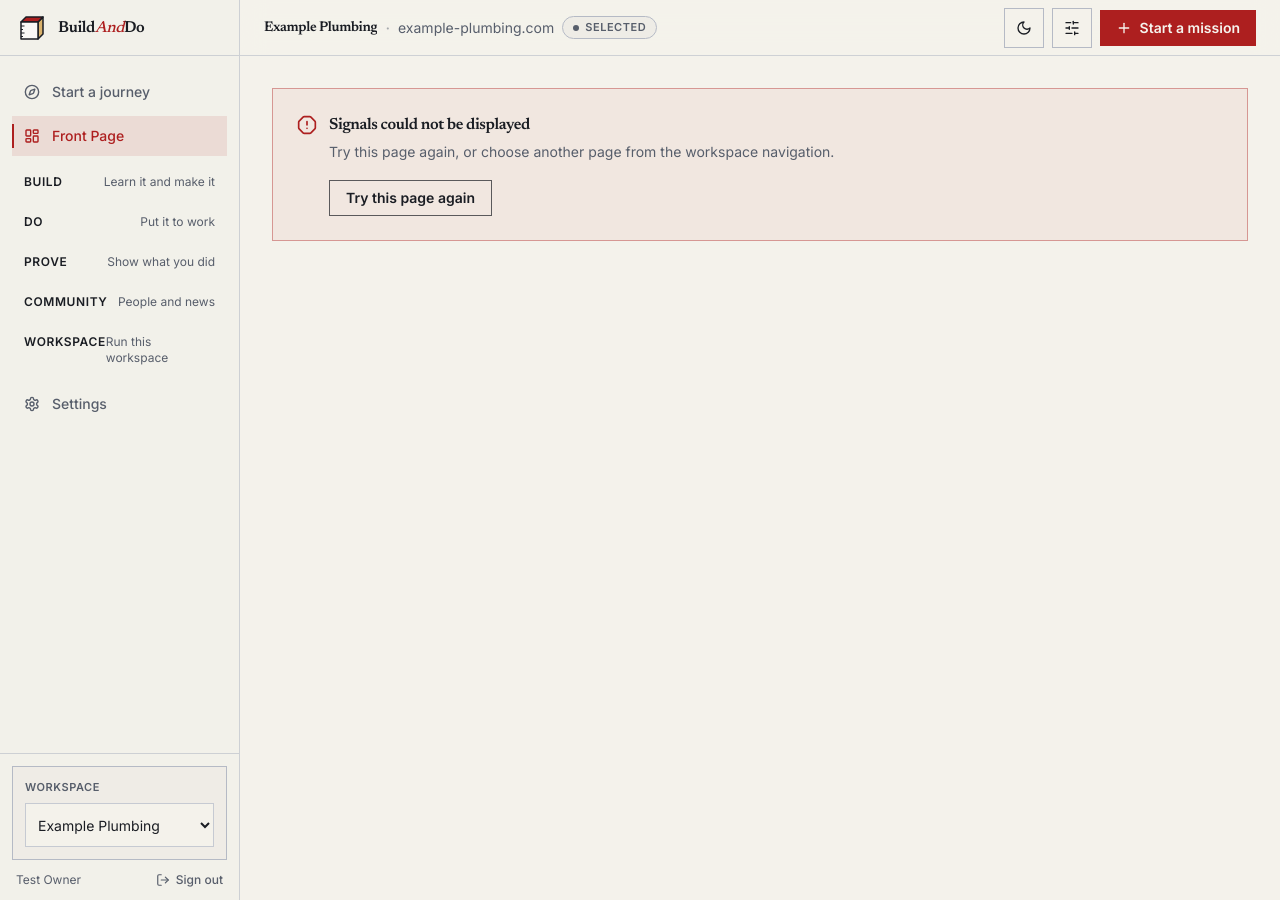
Test: page error isolation › attributes a failed page, keeps the shell available and recovers on retry
Expected: the message shows "Signals could not be displayed", [329,117,530,133]
Expected: the link "Settings" is shown, [24,395,107,412]
Click the button "Try this page again". click: [410, 198]
box: [329,180,492,216]
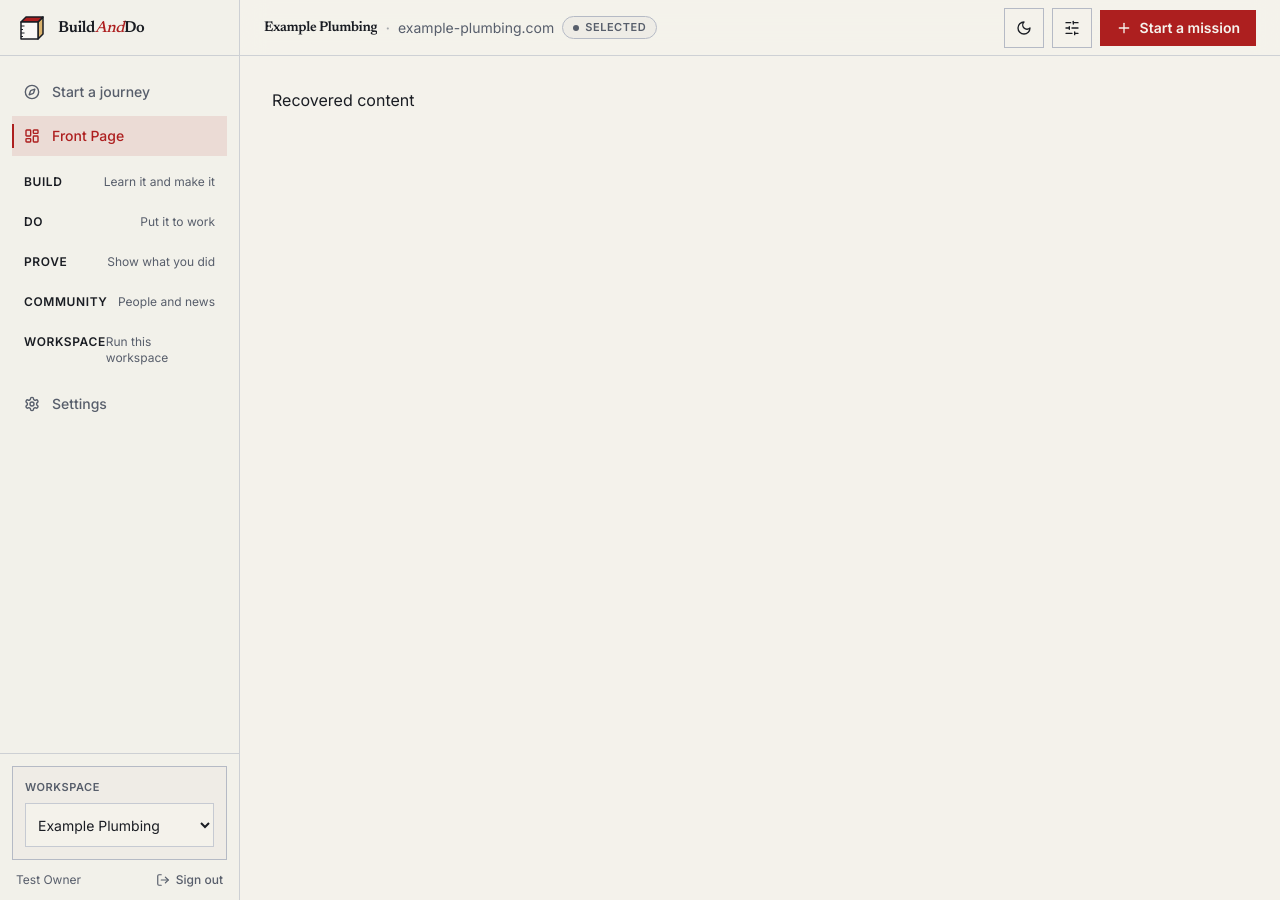
Expected: the heading "Recovered content" is shown, [272,90,414,110]
Click the link "Settings". click: [65, 404]
box: [24,395,107,412]
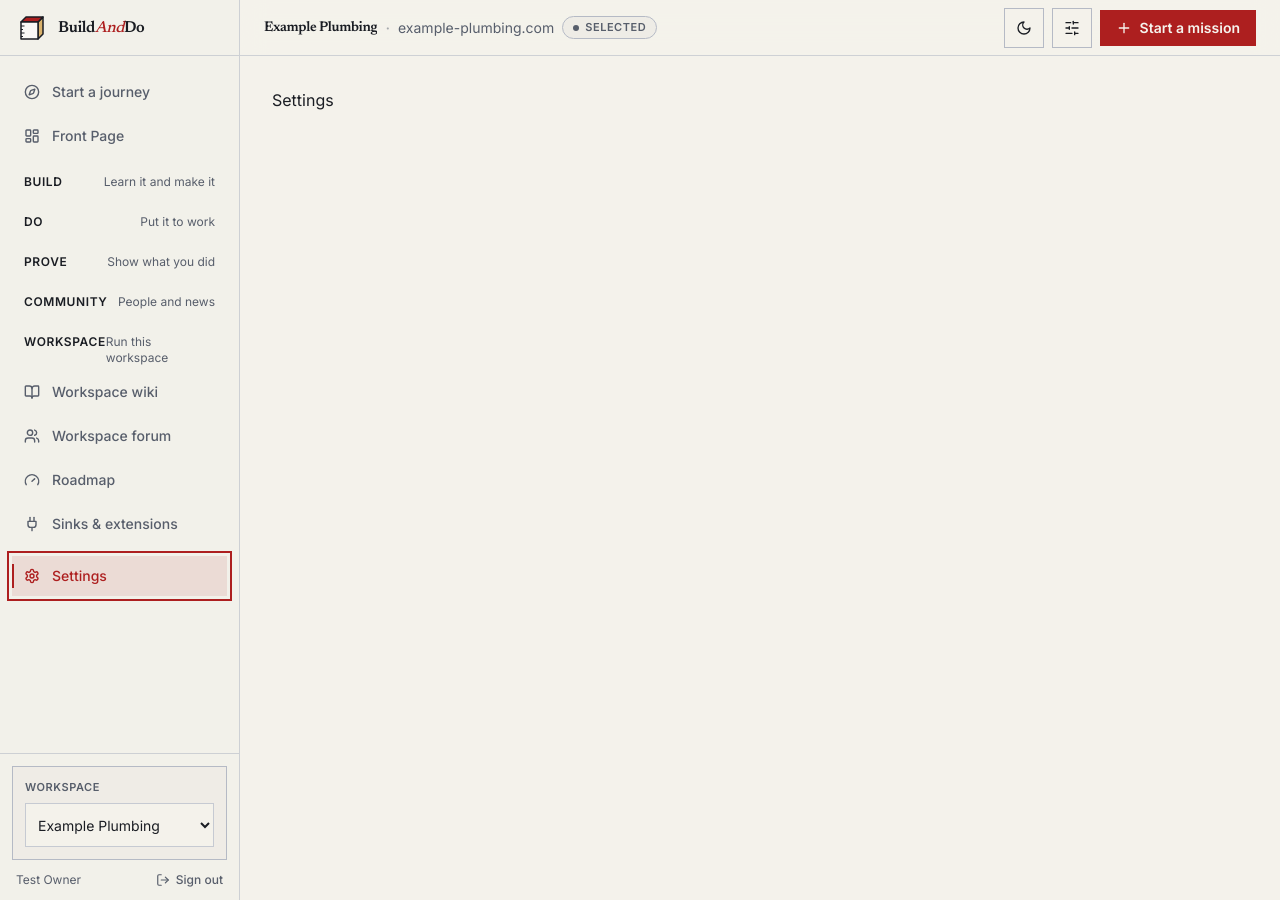
Expected: the heading "Settings" is shown, [272,90,334,110]
